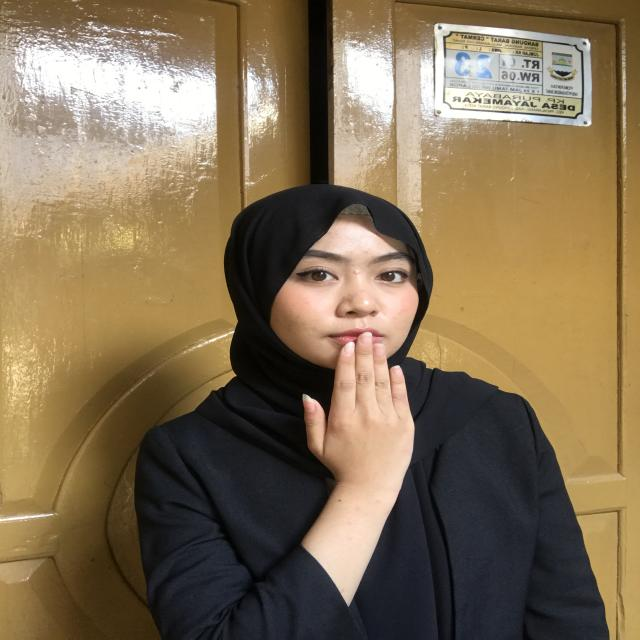ganteng: (265, 323, 444, 518)
